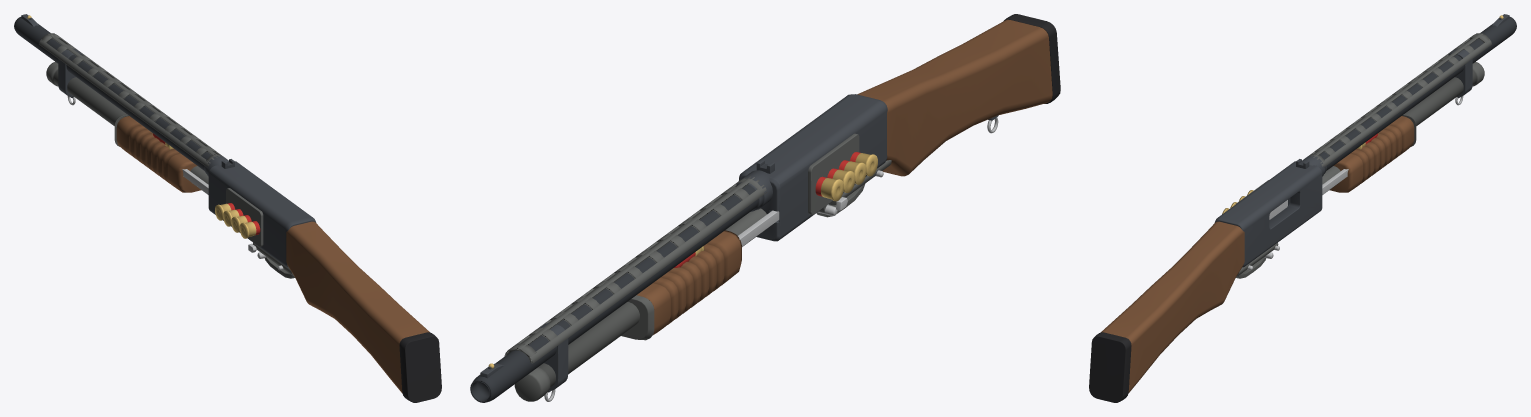
Rendered from vm_shotgun.glb.
3 views of the same model, side by side, from view 1: azimuth 30°, elevation 25°; view 2: azimuth 150°, elevation 25°; view 3: azimuth 330°, elevation 25° (orthographic). The views are drawn at different scales.
Parts seen in each view (by area): view 1: stock, receiver, heat_shield, forend, butt_pad, barrel, mag_tube, saddle_plate, barrel_band; view 2: stock, receiver, heat_shield, barrel, forend, mag_tube, saddle_plate, butt_pad, forend_cap, barrel_band, action_bars; view 3: stock, receiver, heat_shield, forend, butt_pad, barrel, mag_tube, barrel_band.
Boxes of the visible parts, bbox=[...] form: stock: bbox=[286, 221, 429, 393]; receiver: bbox=[208, 161, 316, 267]; heat_shield: bbox=[39, 33, 223, 167]; forend: bbox=[116, 116, 201, 192]; butt_pad: bbox=[399, 332, 441, 402]; barrel: bbox=[14, 17, 228, 176]; mag_tube: bbox=[46, 62, 208, 194]; saddle_plate: bbox=[226, 188, 263, 246]; barrel_band: bbox=[58, 48, 82, 96]; stock: bbox=[857, 19, 1052, 176]; receiver: bbox=[739, 94, 887, 241]; heat_shield: bbox=[504, 176, 766, 363]; barrel: bbox=[470, 170, 772, 402]; forend: bbox=[636, 230, 741, 334]; mag_tube: bbox=[514, 208, 766, 401]; saddle_plate: bbox=[808, 133, 859, 214]; butt_pad: bbox=[1003, 14, 1060, 103]; forend_cap: bbox=[621, 295, 654, 340]; barrel_band: bbox=[540, 323, 568, 390]; action_bars: bbox=[738, 210, 779, 246]; stock: bbox=[1101, 221, 1244, 393]; receiver: bbox=[1214, 161, 1322, 267]; heat_shield: bbox=[1307, 33, 1491, 167]; forend: bbox=[1329, 116, 1414, 192]; butt_pad: bbox=[1089, 332, 1131, 402]; barrel: bbox=[1302, 17, 1516, 176]; mag_tube: bbox=[1322, 62, 1484, 194]; barrel_band: bbox=[1448, 48, 1472, 96].
Size of the model in its own units: 0.0731 by 0.1422 by 1.06.
